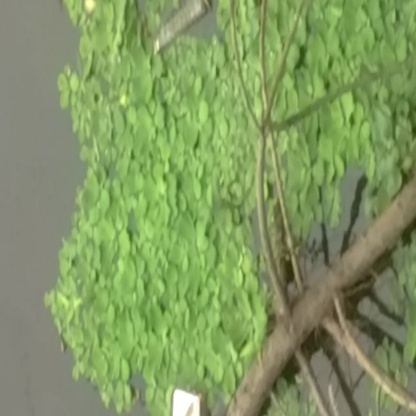branch: (229, 181, 416, 412)
